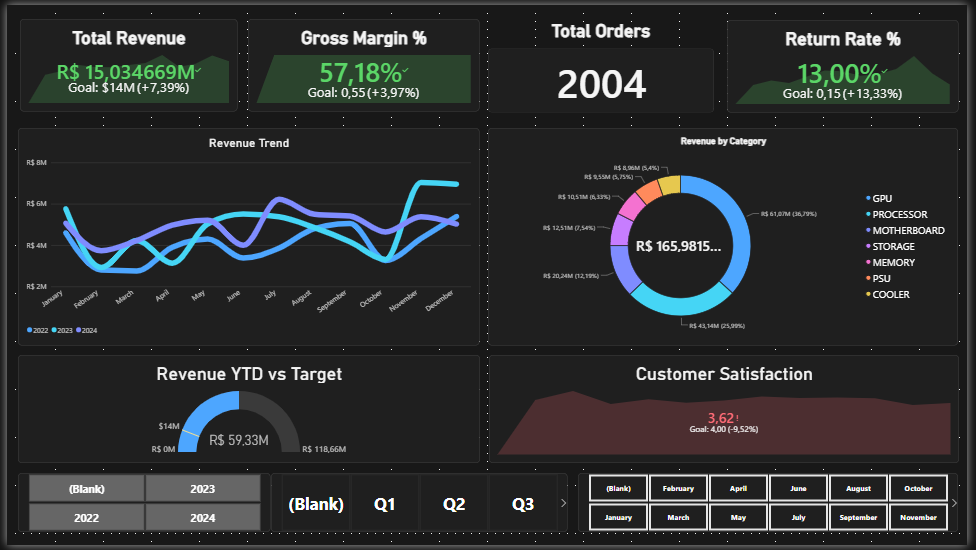

Layout of this report page (visuals, bound fields, positions):
{"tool":"powerbi","page":{"name":"Executive Summary","canvas":[1920,1080],"ordinal":0},"visuals":[{"type":"kpi","title":"Total Revenue","fields":{"Goal":["_measures.TGT_Revenue Target"],"Indicator":["_measures.REV_Total Revenue"],"TrendLine":["Calendar.Year Quarter"]},"box":[25,27.5,435,185],"z":0},{"type":"kpi","title":"Gross Margin %","fields":{"Goal":["_measures.TGT_Gross Margin Target"],"Indicator":["_measures.REV_Gross Margin %"],"TrendLine":["Calendar.Year Quarter"]},"box":[482.5,27.5,462.5,185],"z":1000},{"type":"cardVisual","title":"Total Orders","fields":{"Data":["_measures.REV_Total Orders"]},"box":[962.5,30,452.5,185],"z":2000},{"type":"kpi","title":"Return Rate %","fields":{"Goal":["_measures.TGT_Return Rate Target"],"Indicator":["_measures.RET_Return Rate %"],"TrendLine":["Calendar.Year Quarter"]},"box":[1440,30,462.5,185],"z":3000},{"type":"lineChart","title":"Revenue Trend","fields":{"Category":["Calendar.Month Name"],"Series":["Calendar.Year"],"Y":["_measures.REV_Total Revenue"]},"box":[22.5,245,922.5,435],"z":4000},{"type":"donutChart","title":"Revenue by Category","fields":{"Category":["fact_sales.category"],"Y":["_measures.REV_Total Revenue"]},"box":[962.5,245,940,435],"z":5000},{"type":"slicer","title":"Year","fields":{"Values":["Calendar.Year"]},"box":[22,994,506,58],"z":6000},{"type":"slicer","title":"Year","fields":{"Values":["Calendar.Quarter"]},"box":[548,994,508,58],"z":7000},{"type":"slicer","title":"Year","fields":{"Values":["Calendar.Month Name"]},"box":[1076,994,826,58],"z":8000},{"type":"gauge","title":"Revenue YTD vs Target","fields":{"TargetValue":["_measures.TGT_Revenue Target"],"Y":["_measures.TIME_Revenue YTD"]},"box":[22,700,924,270],"z":8001},{"type":"kpi","title":"Customer Satisfaction","fields":{"Goal":["_measures.TGT_Satisfaction Target"],"Indicator":["_measures.SUP_Average Satisfaction Score"],"TrendLine":["Calendar.Year Quarter"]},"box":[964,700,940,270],"z":8002}]}

Visuals, with their boxes in screenshot pixels (x1, y1, x2, y2), scaled from the page's 1920x1080 canvas onto the 976x550 screenshot:
"Total Revenue" kpi: 13, 14, 234, 108
"Gross Margin %" kpi: 245, 14, 480, 108
"Total Orders" cardVisual: 489, 15, 719, 109
"Return Rate %" kpi: 732, 15, 967, 109
"Revenue Trend" lineChart: 11, 125, 480, 346
"Revenue by Category" donutChart: 489, 125, 967, 346
"Year" slicer: 11, 506, 268, 536
"Year" slicer: 279, 506, 537, 536
"Year" slicer: 547, 506, 967, 536
"Revenue YTD vs Target" gauge: 11, 356, 481, 494
"Customer Satisfaction" kpi: 490, 356, 968, 494
